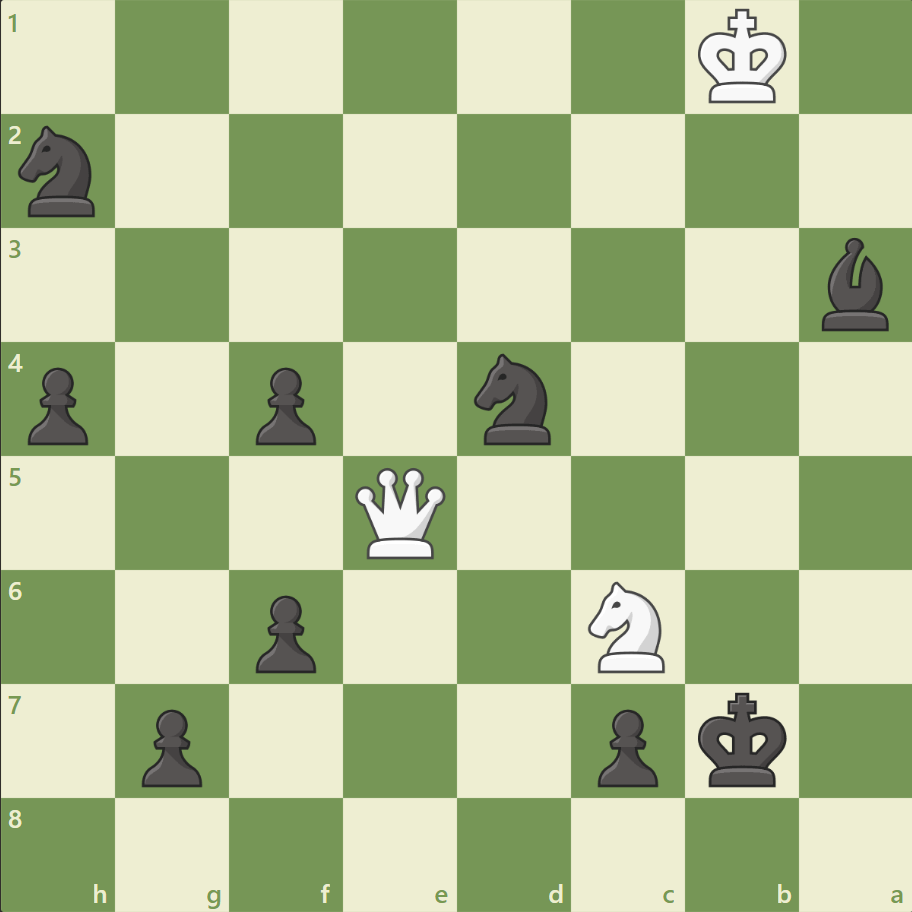K: (692, 4, 792, 112)
N: (579, 575, 676, 677)
Q: (351, 463, 450, 562)
b: (812, 233, 896, 336)
k: (692, 685, 792, 793)
n: (465, 348, 562, 450), (11, 121, 108, 223)
p: (133, 700, 208, 791), (247, 586, 322, 677), (247, 359, 322, 450), (20, 359, 95, 450), (588, 700, 662, 791)
